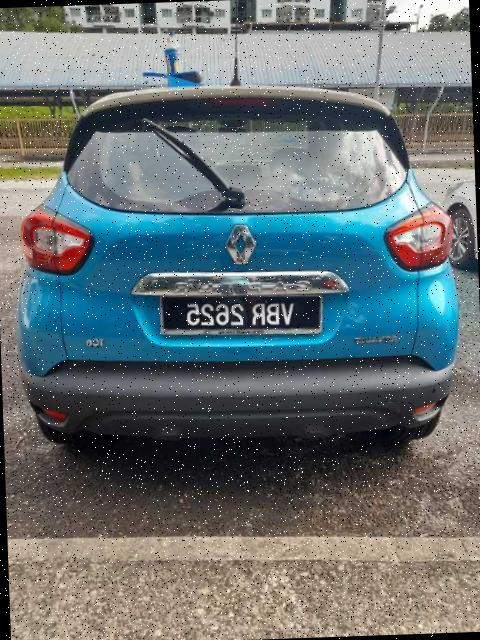License_Plate: (159, 290, 325, 340)
car: (9, 77, 466, 458)
